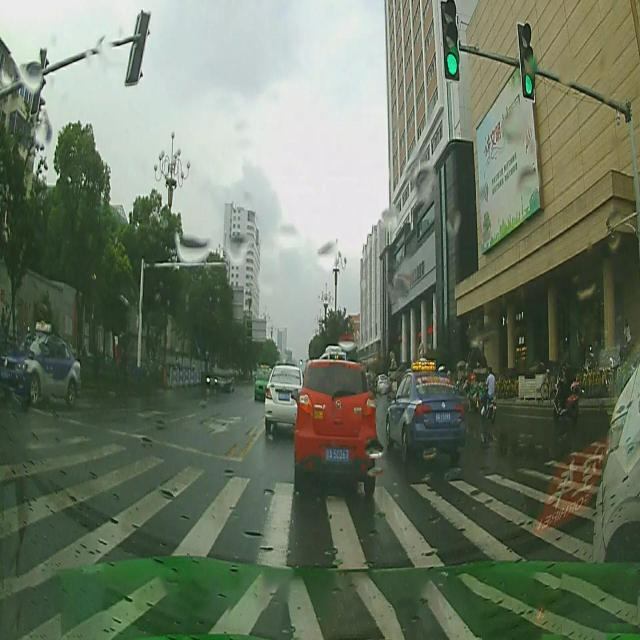car: (293, 358, 379, 493), (386, 358, 466, 462), (0, 318, 80, 405), (266, 364, 302, 436)
